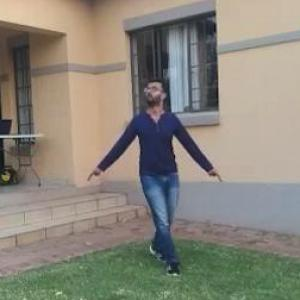land: (102, 88, 206, 252)
